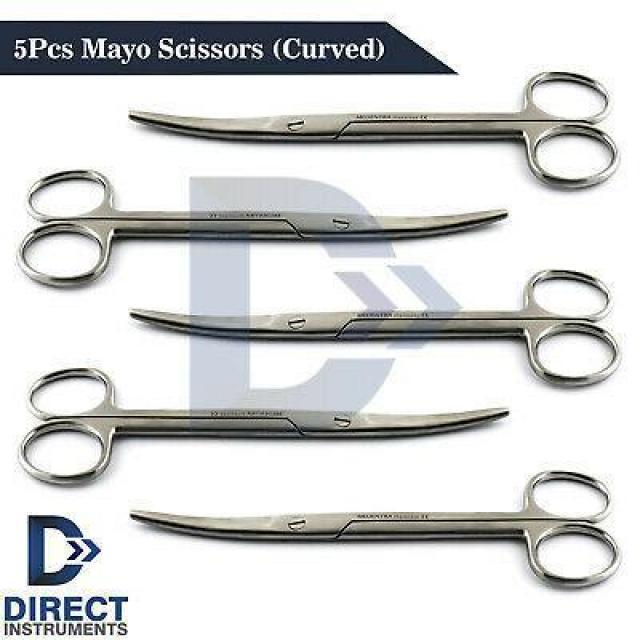Mayo_metz: (14, 364, 516, 492), (124, 466, 626, 594), (126, 266, 624, 394), (16, 166, 512, 293), (125, 67, 621, 194)
